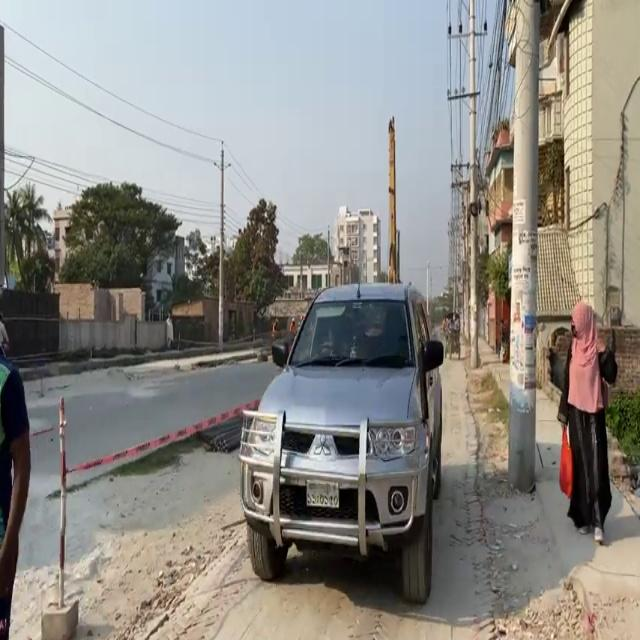Broken-road: (238, 280, 444, 604)
Construction-barrier: (48, 396, 261, 499), (11, 342, 267, 382)
Garbage: (39, 394, 79, 639)
Garbage-bin: (556, 300, 618, 543), (0, 311, 31, 639)
Light-pole: (506, 0, 540, 494)
Pothole: (465, 334, 639, 639)
